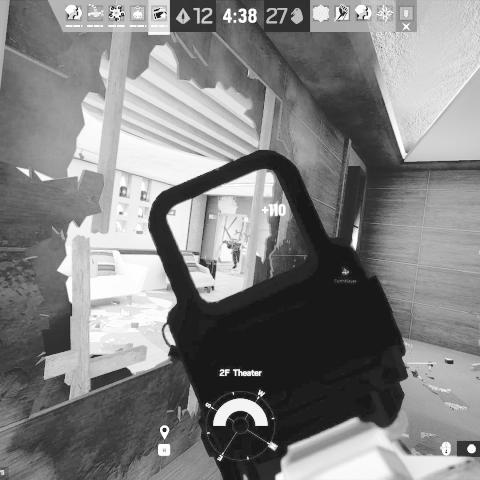Character: (223, 236, 241, 270)
Friend_label: (334, 266, 357, 284)
